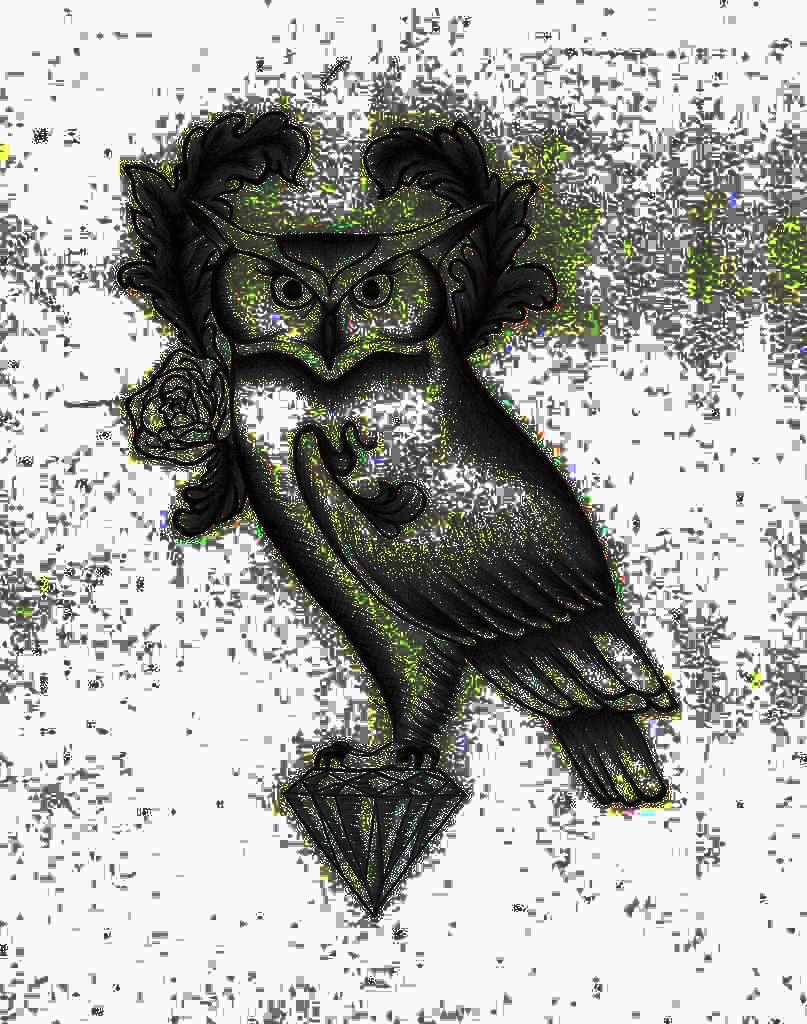Owl: (177, 188, 688, 806)
